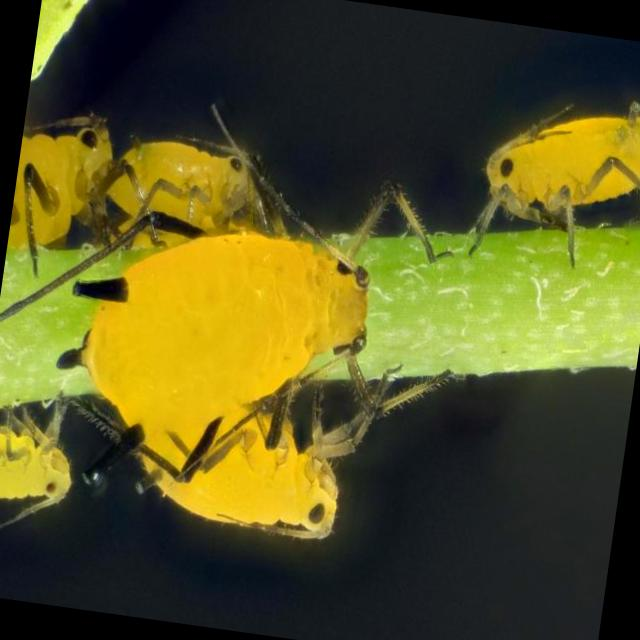aphid: (67, 186, 417, 560), (18, 96, 269, 290), (472, 78, 640, 255), (0, 374, 77, 534)
